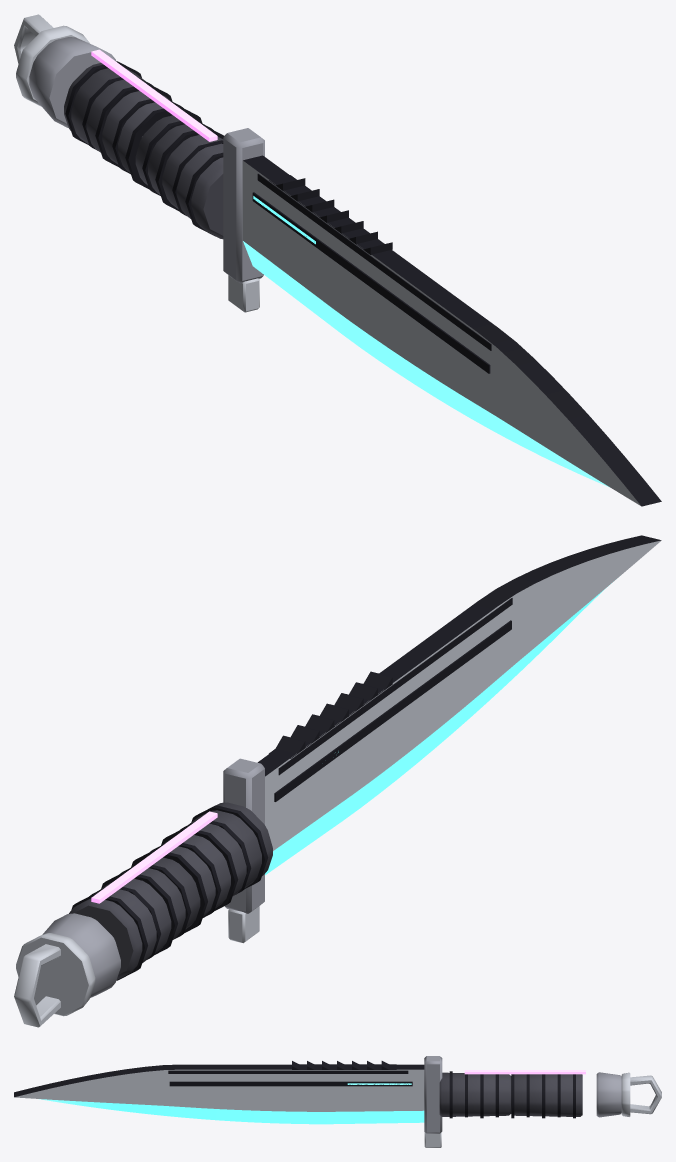
Rendered from w_knife.glb.
3 renders of one model, top to bottom at view 1: azimuth 30°, elevation 25°; view 2: azimuth 150°, elevation 25°; view 3: azimuth 270°, elevation 25°, orthographic. The views are drawn at different scales.
Parts seen in each view (by area): view 1: metal, dark, grip, body, acc, heat; view 2: metal, dark, grip, body, acc, heat; view 3: metal, dark, grip, acc, body, heat.
Boxes of the visible parts, x1,y1,x2,y2 form: metal: (14,14,640,505); dark: (65,61,661,506); grip: (64,63,223,239); body: (29,37,264,283); acc: (243,196,609,487); heat: (91,49,217,141); metal: (14,540,661,1027); dark: (71,535,661,980); grip: (69,802,272,979); body: (42,758,264,997); acc: (265,581,613,875); heat: (91,811,217,903); metal: (15,1069,661,1147); dark: (14,1061,575,1118); grip: (439,1072,582,1116); acc: (39,1083,424,1124); body: (424,1056,621,1133); heat: (464,1070,585,1074).
Size of the model in its own units: 0.0332 by 0.0677 by 0.4536.
